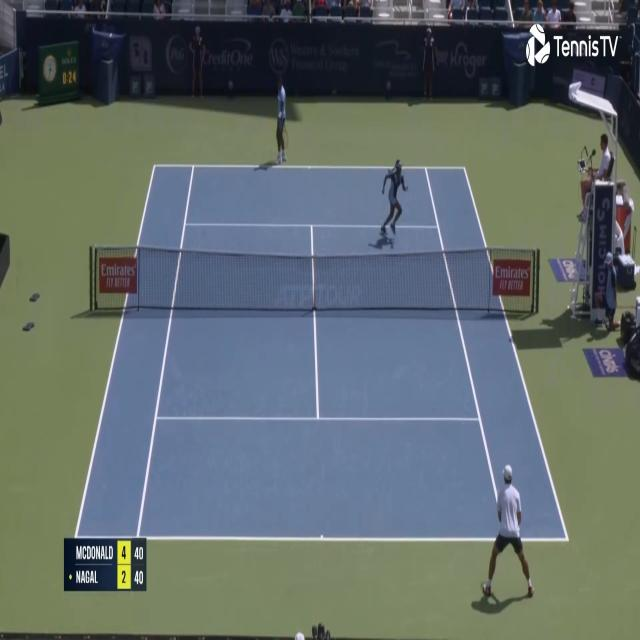tennis-player: (479, 462, 537, 610), (272, 71, 288, 164)
